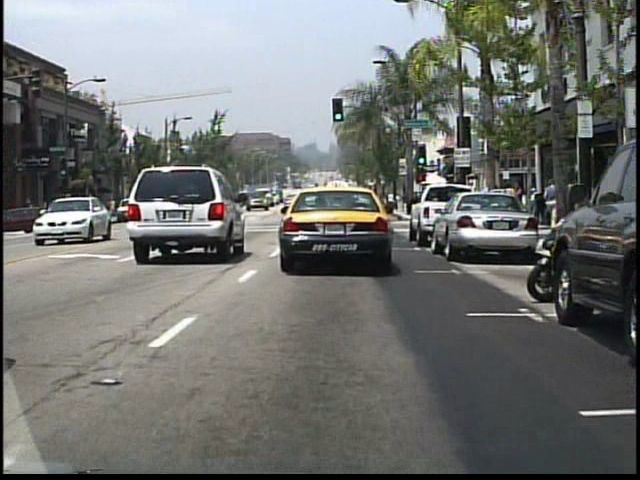person: (508, 179, 527, 232), (540, 179, 559, 229)
